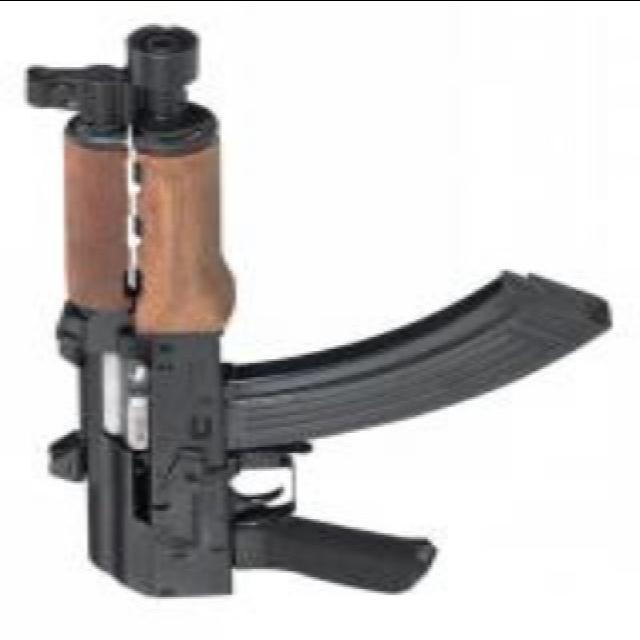rifle: (20, 21, 612, 609)
